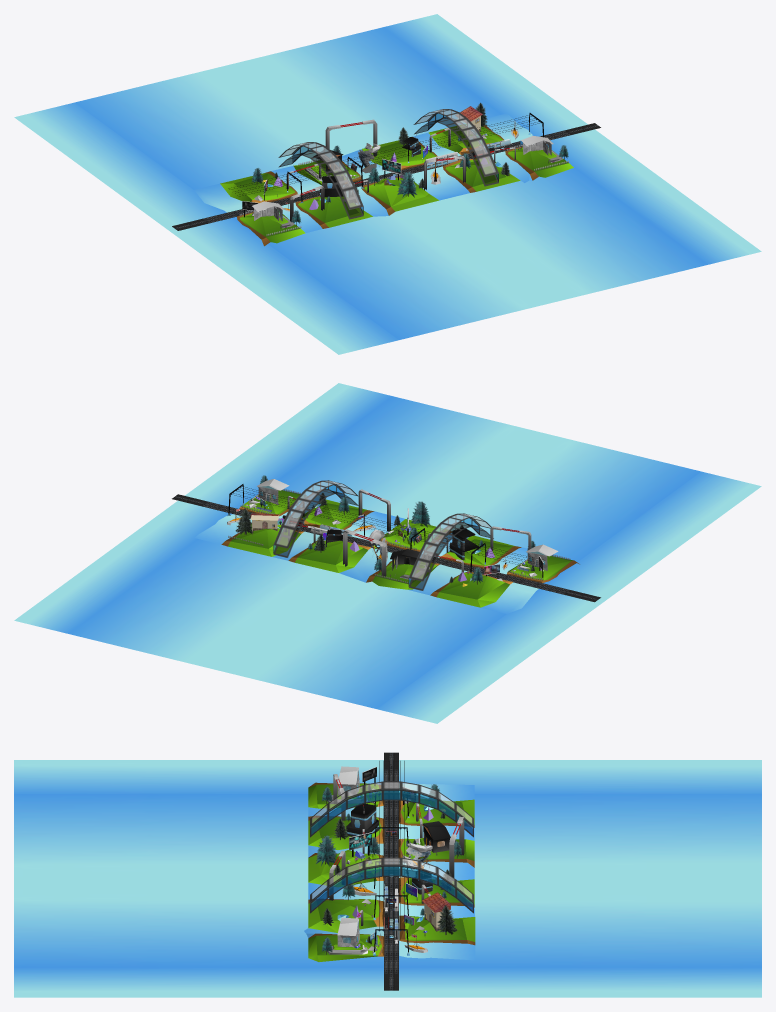
File: subwaysurferstest72.glb
The picture shows the model from 3 angles, top to bottom: view 1: azimuth 30°, elevation 25°; view 2: azimuth 150°, elevation 25°; view 3: azimuth 270°, elevation 25°; orthographic projection. The views are drawn at different scales.
Visible parts, largest first — view 1: Water, Ground, bridge.001, bridge; view 2: Water, Ground, bridge.001, bridge; view 3: Water, Ground, bridge, bridge.001, building.002, House.001, pvzhouse, House, House.002, connector.005, tree1.002.
Part boxes in pixels (x1=…): Water: x1=14, y1=14, x2=761, y2=354; Ground: x1=194, y1=113, x2=573, y2=246; bridge.001: x1=278, y1=142, x2=363, y2=219; bridge: x1=413, y1=109, x2=498, y2=186; Water: x1=14, y1=383, x2=761, y2=723; Ground: x1=195, y1=490, x2=579, y2=613; bridge.001: x1=408, y1=513, x2=493, y2=590; bridge: x1=273, y1=480, x2=358, y2=557; Water: x1=14, y1=760, x2=761, y2=997; Ground: x1=304, y1=782, x2=475, y2=961; bridge: x1=310, y1=857, x2=473, y2=913; bridge.001: x1=310, y1=781, x2=473, y2=837; building.002: x1=346, y1=803, x2=378, y2=836; House.001: x1=423, y1=821, x2=450, y2=852; pvzhouse: x1=422, y1=892, x2=450, y2=931; House: x1=337, y1=917, x2=359, y2=947; House.002: x1=337, y1=766, x2=359, y2=795; connector.005: x1=449, y1=816, x2=464, y2=880; tree1.002: x1=315, y1=835, x2=336, y2=866.
Bounding box in the file's own units: 562 × 71.22 × 744.
Materials: 4 (4 with a texture image).
